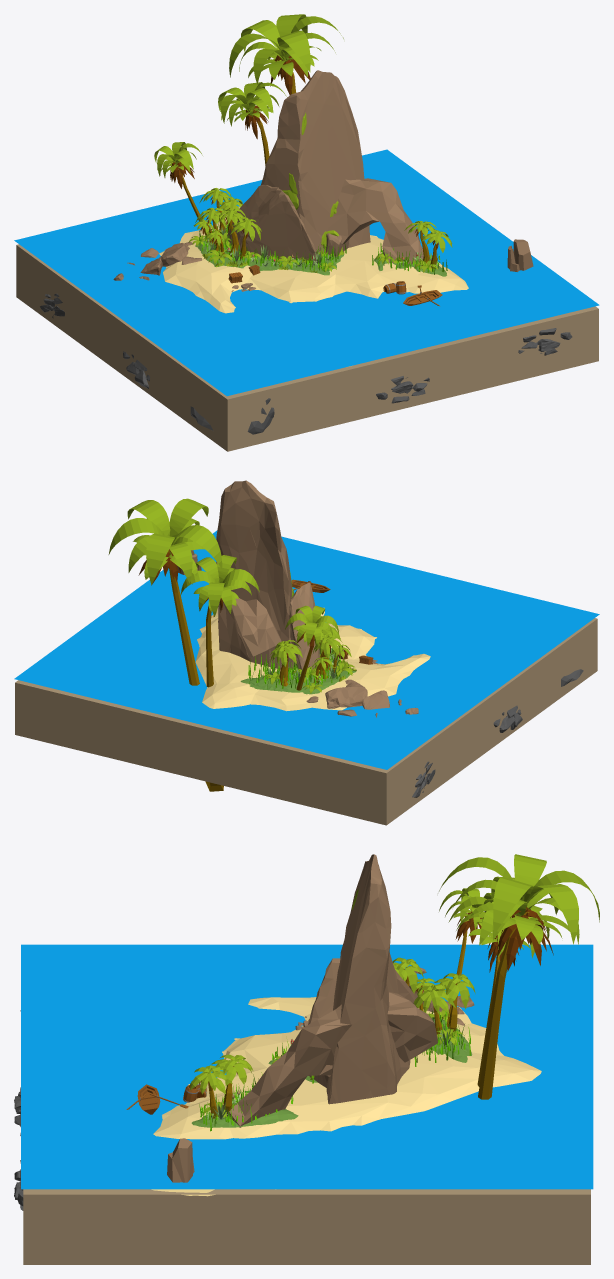
The model's file is Island.fbx.
3 renders of one model, top to bottom at view 1: azimuth 30°, elevation 25°; view 2: azimuth 150°, elevation 25°; view 3: azimuth 270°, elevation 25°, orthographic. The views are drawn at different scales.
Visible parts, largest first — view 1: LowPolyWaterv2, Cube, Rock_Large_06, Terrain_Rock_Mound_01, Terrain_Rock_Archway_02, Rock_Large_07, Vegetation_Modular_Tree_Foliage_Tropical_Palm_04 (10), Vegetation_Modular_Tree_Foliage_Tropical_Palm_04 (11), Vegetation_Modular_Tree_Foliage_Tropical_Palm_04 (14), Rock_Large_17, Rock_Chunks_Large_01 (3), Rock_Chunks_Large_01 (2) (+1 smaller); view 2: LowPolyWaterv2, Cube, Rock_Large_06, Terrain_Rock_Mound_01, Vegetation_Modular_Tree_Foliage_Tropical_Palm_04 (10), Vegetation_Modular_Tree_Foliage_Tropical_Palm_04 (11), Terrain_Rock_Archway_02, Rock_Large_07, Vegetation_Modular_Tree_Trunk_Palm_03, Vegetation_Modular_Tree_Foliage_Tropical_Palm_04 (14), Rock_Large_05, Terrain_Rock_Mound_01 (7) (+1 smaller); view 3: LowPolyWaterv2, Cube, Terrain_Rock_Mound_01, Rock_Large_06, Terrain_Rock_Archway_02, Vegetation_Modular_Tree_Foliage_Tropical_Palm_04 (10), Vegetation_Modular_Tree_Trunk_Palm_03, Rock_Large_07, Vegetation_Modular_Tree_Foliage_Tropical_Palm_04 (9), Rock_Large_17, Vegetation_Modular_Tree_Foliage_Tropical_Palm_04 (11), Terrain_Rock_Mound_01 (1) (+3 smaller).
Part boxes in pixels (x1=…): LowPolyWaterv2: x1=14, y1=149, x2=599, y2=396; Cube: x1=16, y1=244, x2=598, y2=451; Rock_Large_06: x1=260, y1=70, x2=370, y2=252; Terrain_Rock_Mound_01: x1=159, y1=206, x2=468, y2=313; Terrain_Rock_Archway_02: x1=327, y1=178, x2=430, y2=264; Rock_Large_07: x1=227, y1=184, x2=317, y2=262; Vegetation_Modular_Tree_Foliage_Tropical_Palm_04 (10): x1=229, y1=14, x2=343, y2=84; Vegetation_Modular_Tree_Foliage_Tropical_Palm_04 (11): x1=218, y1=82, x2=286, y2=126; Vegetation_Modular_Tree_Foliage_Tropical_Palm_04 (14): x1=154, y1=142, x2=202, y2=177; Rock_Large_17: x1=507, y1=239, x2=533, y2=271; Rock_Chunks_Large_01 (3): x1=518, y1=328, x2=572, y2=355; Rock_Chunks_Large_01 (2): x1=376, y1=376, x2=429, y2=403; LowPolyWaterv2: x1=14, y1=530, x2=599, y2=769; Cube: x1=15, y1=618, x2=597, y2=825; Rock_Large_06: x1=216, y1=480, x2=295, y2=669; Terrain_Rock_Mound_01: x1=195, y1=607, x2=430, y2=711; Vegetation_Modular_Tree_Foliage_Tropical_Palm_04 (10): x1=108, y1=498, x2=222, y2=584; Vegetation_Modular_Tree_Foliage_Tropical_Palm_04 (11): x1=180, y1=555, x2=259, y2=616; Terrain_Rock_Archway_02: x1=216, y1=561, x2=281, y2=657; Rock_Large_07: x1=289, y1=582, x2=319, y2=674; Vegetation_Modular_Tree_Trunk_Palm_03: x1=168, y1=550, x2=223, y2=791; Vegetation_Modular_Tree_Foliage_Tropical_Palm_04 (14): x1=285, y1=605, x2=338, y2=646; Rock_Large_05: x1=325, y1=686, x2=367, y2=708; Terrain_Rock_Mound_01 (7): x1=250, y1=672, x2=318, y2=692; LowPolyWaterv2: x1=21, y1=944, x2=593, y2=1189; Cube: x1=23, y1=1189, x2=590, y2=1264; Terrain_Rock_Mound_01: x1=153, y1=997, x2=541, y2=1139; Rock_Large_06: x1=326, y1=854, x2=410, y2=1104; Terrain_Rock_Archway_02: x1=226, y1=992, x2=437, y2=1127; Vegetation_Modular_Tree_Foliage_Tropical_Palm_04 (10): x1=439, y1=854, x2=599, y2=944; Vegetation_Modular_Tree_Trunk_Palm_03: x1=478, y1=911, x2=527, y2=1099; Rock_Large_07: x1=308, y1=958, x2=415, y2=1024; Vegetation_Modular_Tree_Foliage_Tropical_Palm_04 (9): x1=470, y1=899, x2=569, y2=944; Rock_Large_17: x1=167, y1=1138, x2=194, y2=1182; Vegetation_Modular_Tree_Foliage_Tropical_Palm_04 (11): x1=448, y1=893, x2=549, y2=958; Terrain_Rock_Mound_01 (1): x1=191, y1=1090, x2=298, y2=1127.
Bounding box in the file's own units: 10.84 × 8.04 × 10.79.
